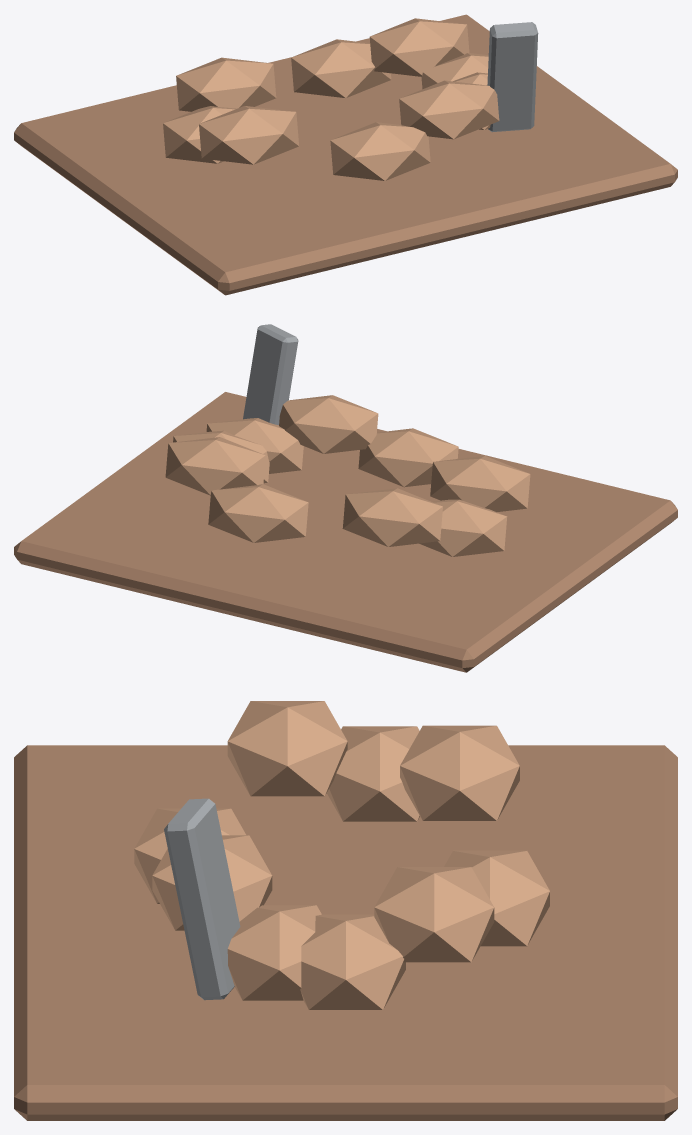
File: harthmere_river_clay.glb
3 renders of one model, top to bottom at view 1: azimuth 30°, elevation 25°; view 2: azimuth 150°, elevation 25°; view 3: azimuth 270°, elevation 25°, orthographic. The views are drawn at different scales.
Size of the model in its own units: 2.5 by 0.7706 by 2.
